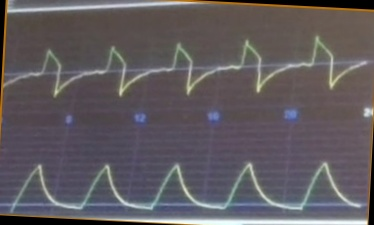Normal Flow: (5, 31, 366, 99)
Normal Volume: (8, 150, 362, 214)
